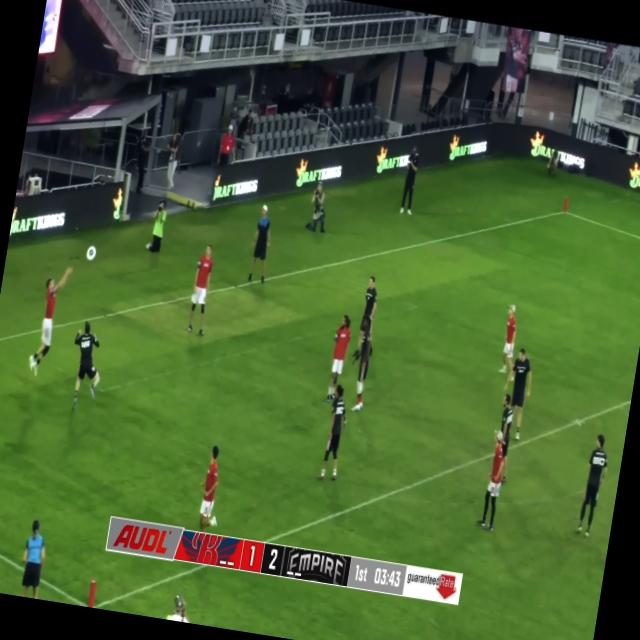Disc: (85, 246, 97, 262)
Player: (26, 265, 73, 379), (316, 379, 354, 486), (574, 434, 612, 540), (476, 431, 514, 534), (66, 322, 110, 407), (498, 346, 536, 439), (348, 316, 378, 416), (185, 247, 218, 336), (246, 204, 278, 288), (324, 314, 355, 400), (196, 444, 226, 530), (491, 394, 518, 484), (354, 276, 384, 357), (497, 305, 524, 379)
